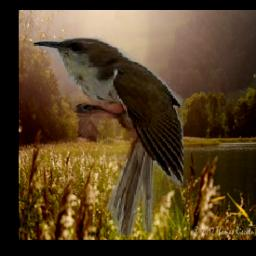Cuckoo: (31, 36, 183, 236)
